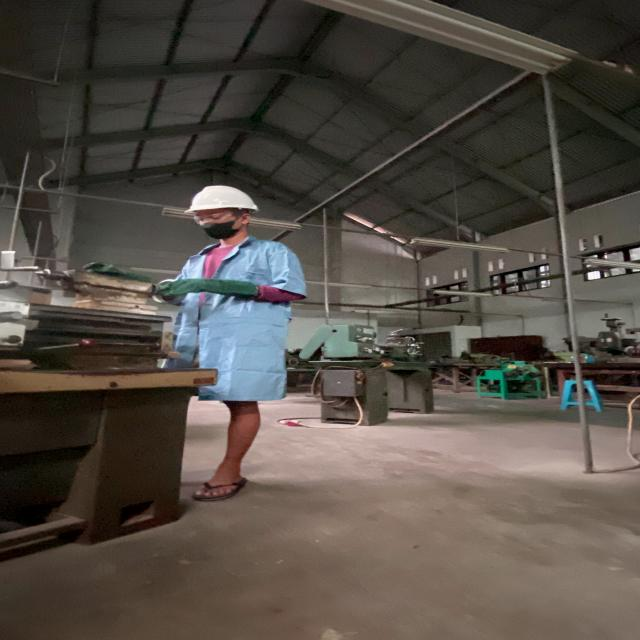face_mask: (188, 209, 242, 242)
glasses: (190, 208, 236, 224)
hand_glove: (156, 276, 211, 299), (80, 259, 127, 281)
head_helmet: (185, 183, 258, 215)
person: (148, 181, 302, 495)
